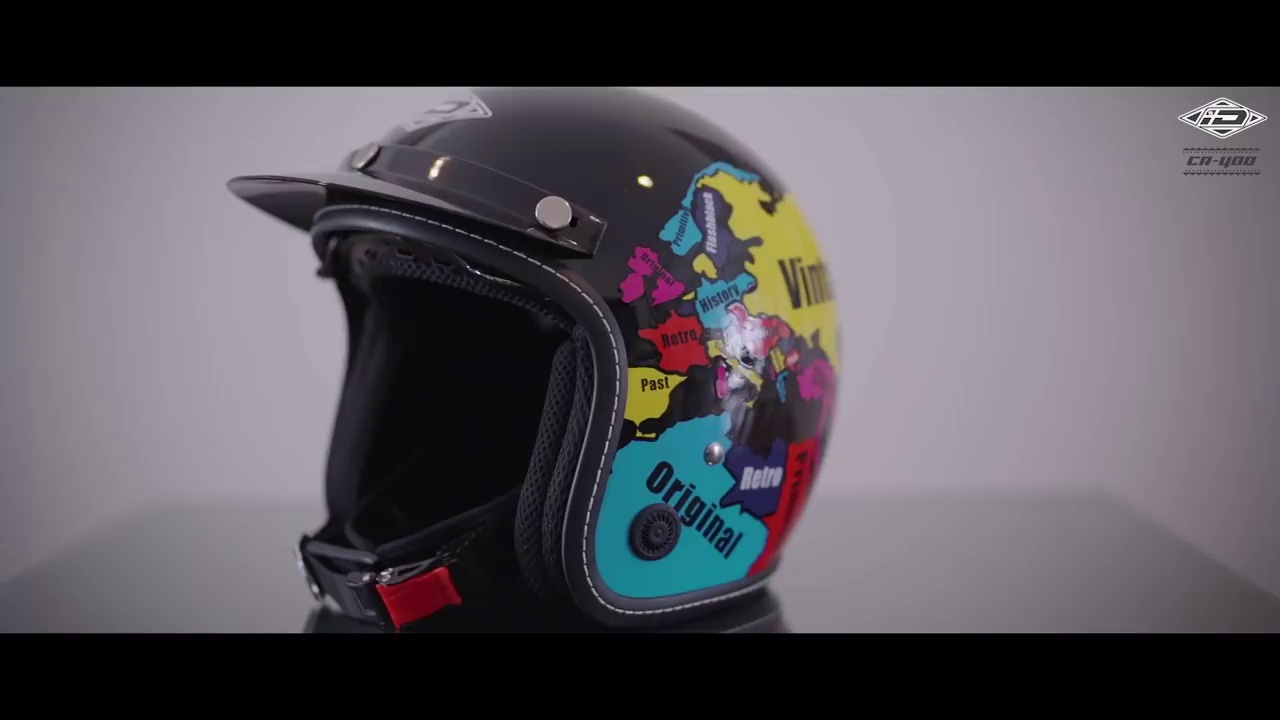helmet: (210, 80, 844, 621), (210, 80, 837, 621)
